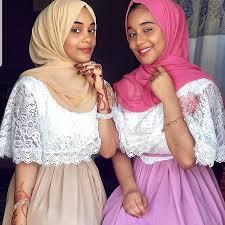No Mask: (122, 0, 199, 94), (43, 3, 110, 82)
